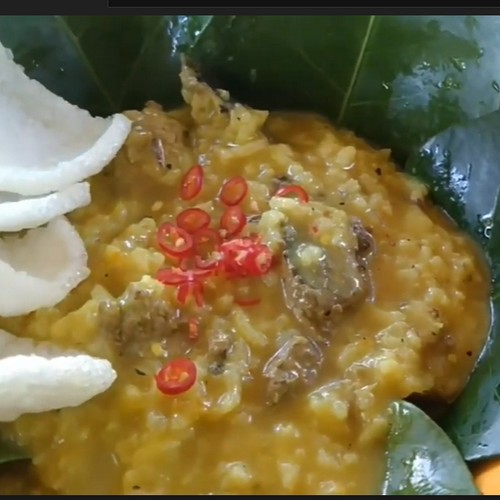bubur mengguh: (127, 95, 437, 491)
